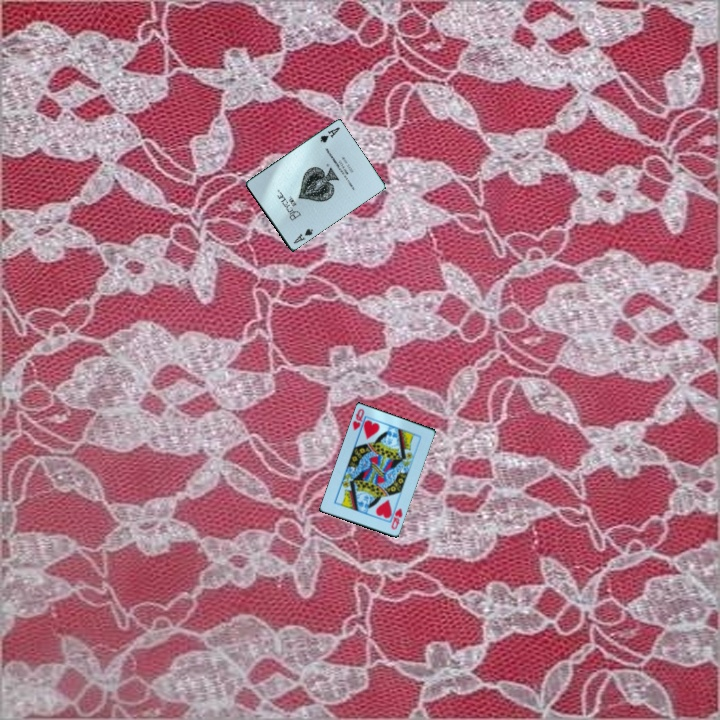As: (316, 124, 343, 146), (290, 225, 316, 247)
Qh: (349, 405, 367, 434), (388, 505, 405, 532)
